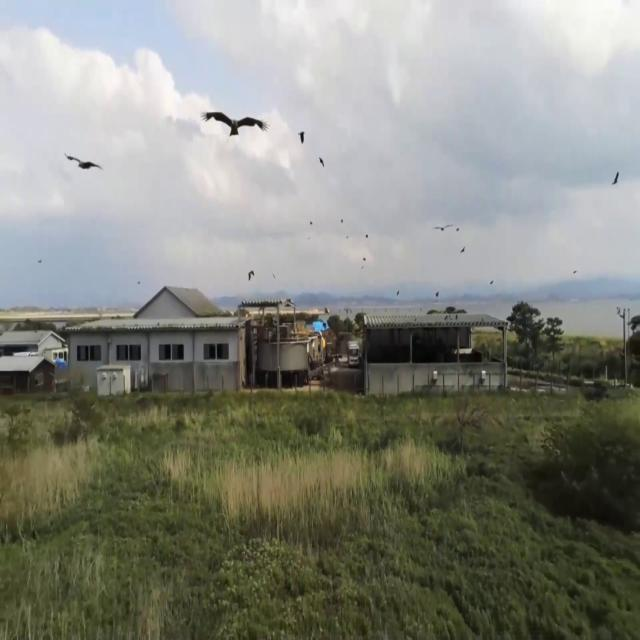bird: (202, 70, 270, 160), (63, 132, 102, 190), (216, 97, 253, 144), (434, 216, 452, 240)
